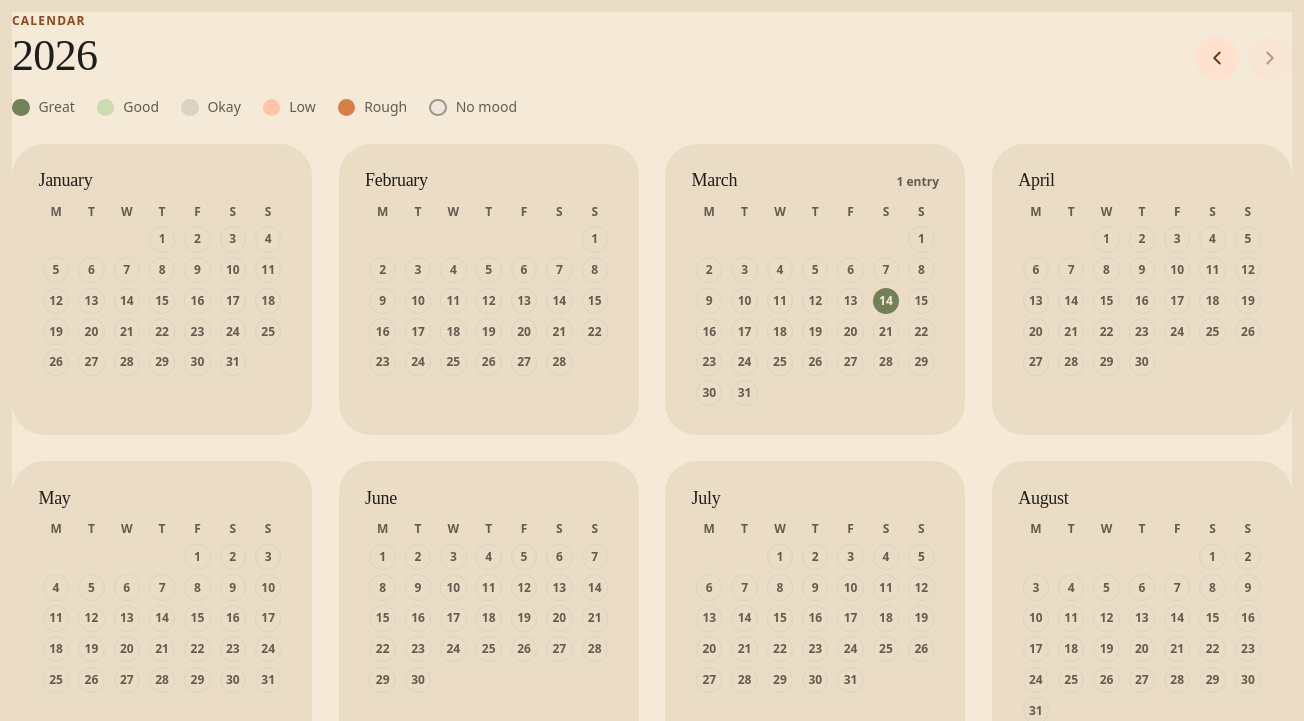
Test: moving between years › goes to the year before and back, in the address, and asks for that year
Click the button named "Previous year" at (1217, 58), box left=1195, top=36, right=1239, bottom=80
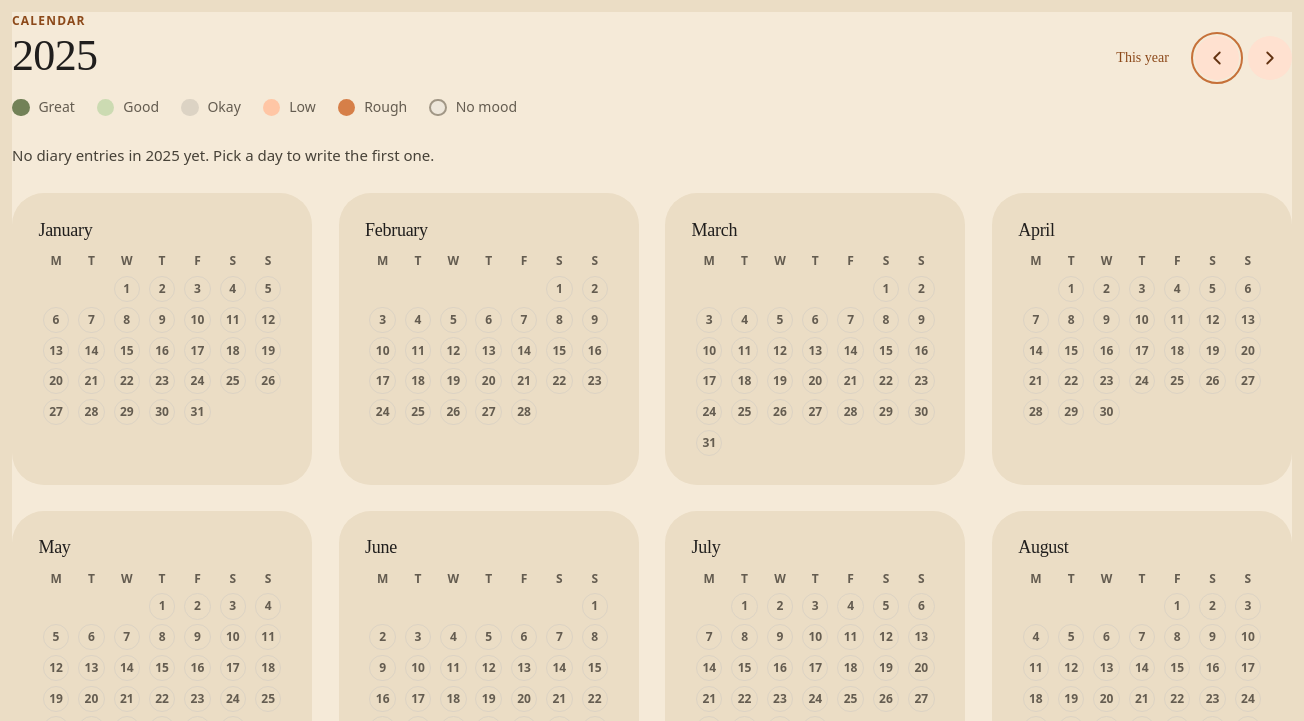
Expected: the heading "2025" is shown, left=12, top=31, right=97, bottom=80
Click the button named "Next year" at (1270, 58), box left=1248, top=36, right=1292, bottom=80
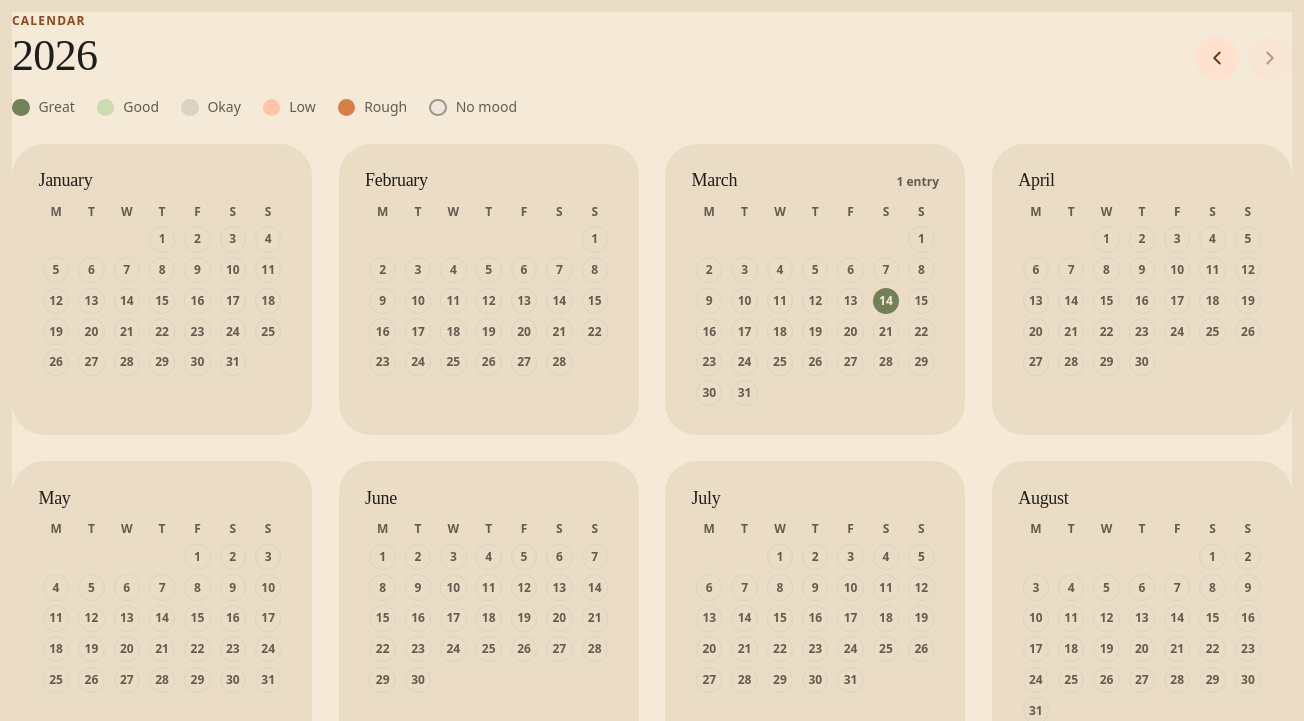
Expected: the heading "2026" is shown, left=12, top=31, right=97, bottom=80
